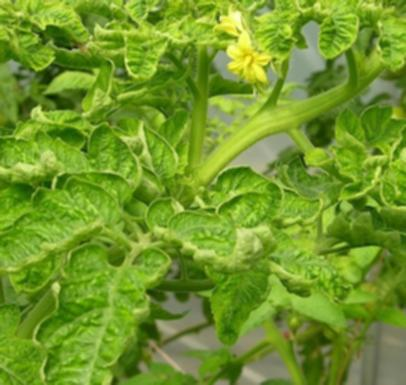Tomato leaf yellow virus: (35, 240, 167, 385), (212, 154, 327, 250), (0, 185, 117, 277), (144, 201, 242, 275), (60, 122, 150, 201), (126, 125, 189, 188), (14, 0, 96, 42), (362, 10, 406, 80), (310, 7, 364, 64), (119, 33, 177, 82)
